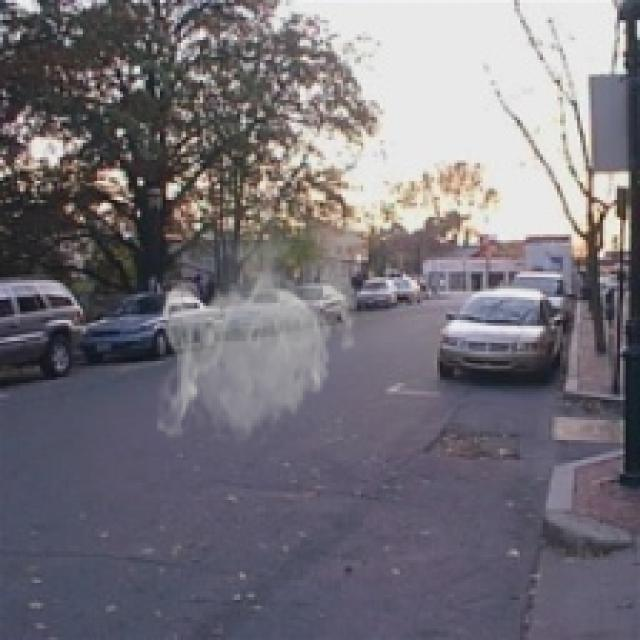Smoke: (157, 188, 369, 446)
